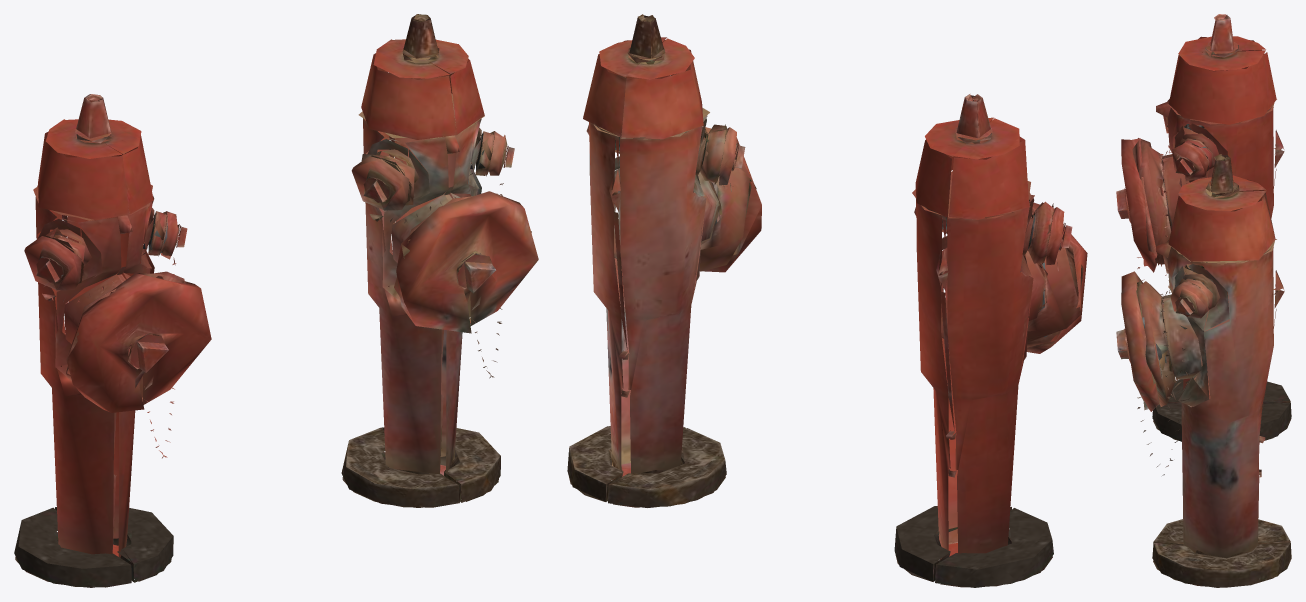
Rendered from hydrant.glb.
The picture shows the model from 3 angles, left to right: view 1: azimuth 30°, elevation 25°; view 2: azimuth 150°, elevation 25°; view 3: azimuth 270°, elevation 25°; orthographic projection. The views are drawn at different scales.
Visible parts, largest first — view 1: hydrant; view 2: hydrant; view 3: hydrant.
Boxes of the visible parts, x1=… form: hydrant: x1=14, y1=14, x2=538, y2=587; hydrant: x1=567, y1=14, x2=1087, y2=587; hydrant: x1=1116, y1=14, x2=1291, y2=587.
Size of the model in its own units: 0.8552 by 0.78 by 0.3092.
Materials: 2 (2 with a texture image).
